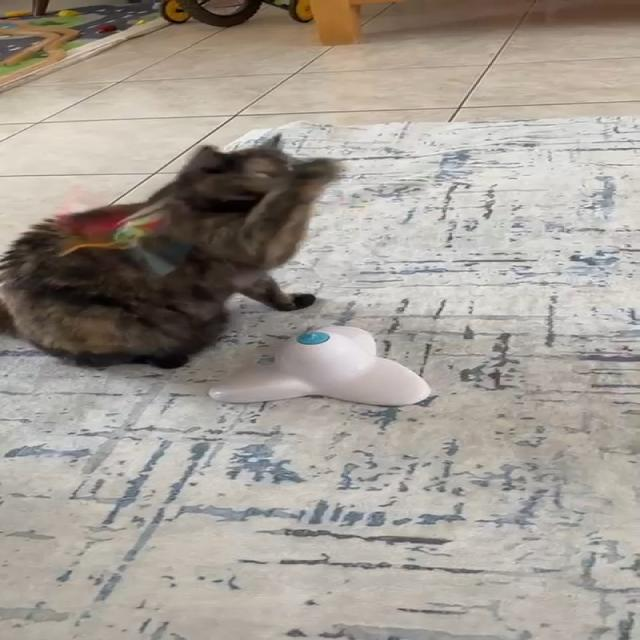authorized: (0, 133, 343, 370)
